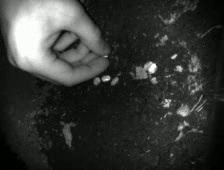corn: (146, 61, 159, 78), (142, 59, 155, 73), (91, 74, 102, 87), (108, 75, 120, 86), (99, 73, 112, 83), (100, 53, 110, 60)
